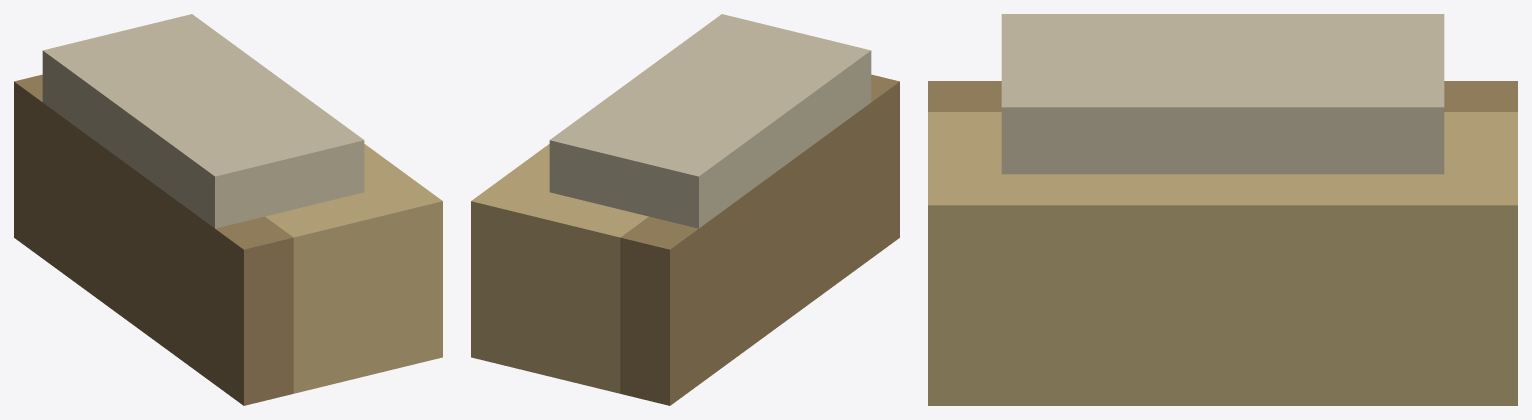
Rendered from left_pauldron.glb.
The picture shows the model from 3 angles, left to right: view 1: azimuth 30°, elevation 25°; view 2: azimuth 150°, elevation 25°; view 3: azimuth 270°, elevation 25°; orthographic projection. The views are drawn at different scales.
Bounding box in the file's own units: 4 × 4 × 8.
